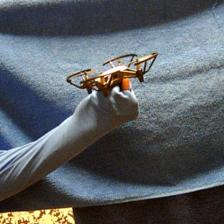drone: (64, 50, 160, 97)
